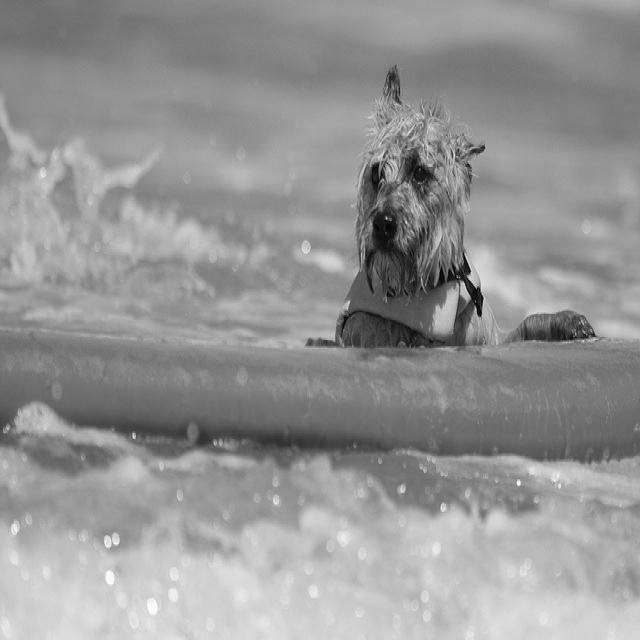dog: (305, 54, 600, 345)
